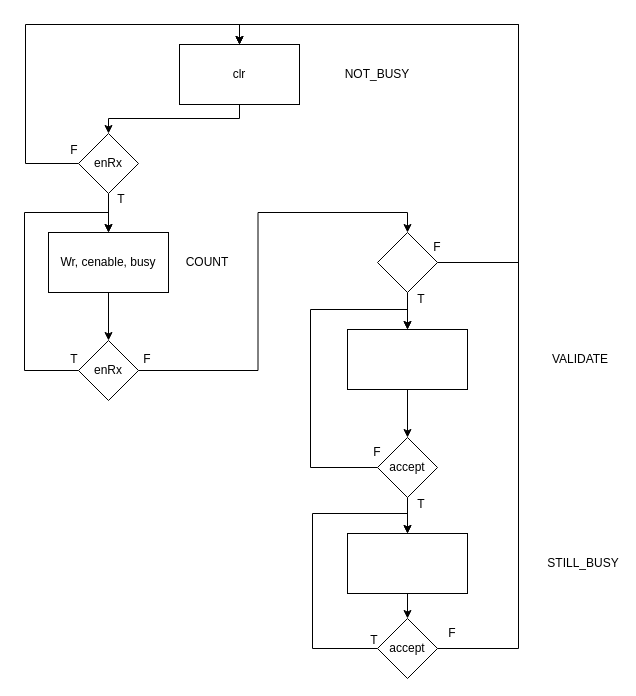
Image size: 636x696. Some labels were removed from this diagram. The box of each missing label's shape, as (x1, y1, x2, y2) in pixels:
busy: (346, 532, 468, 594)
DXval, busy: (346, 328, 468, 390)
eq5: (376, 232, 438, 292)
